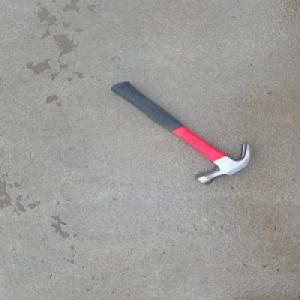Hammer: (109, 80, 252, 184)
